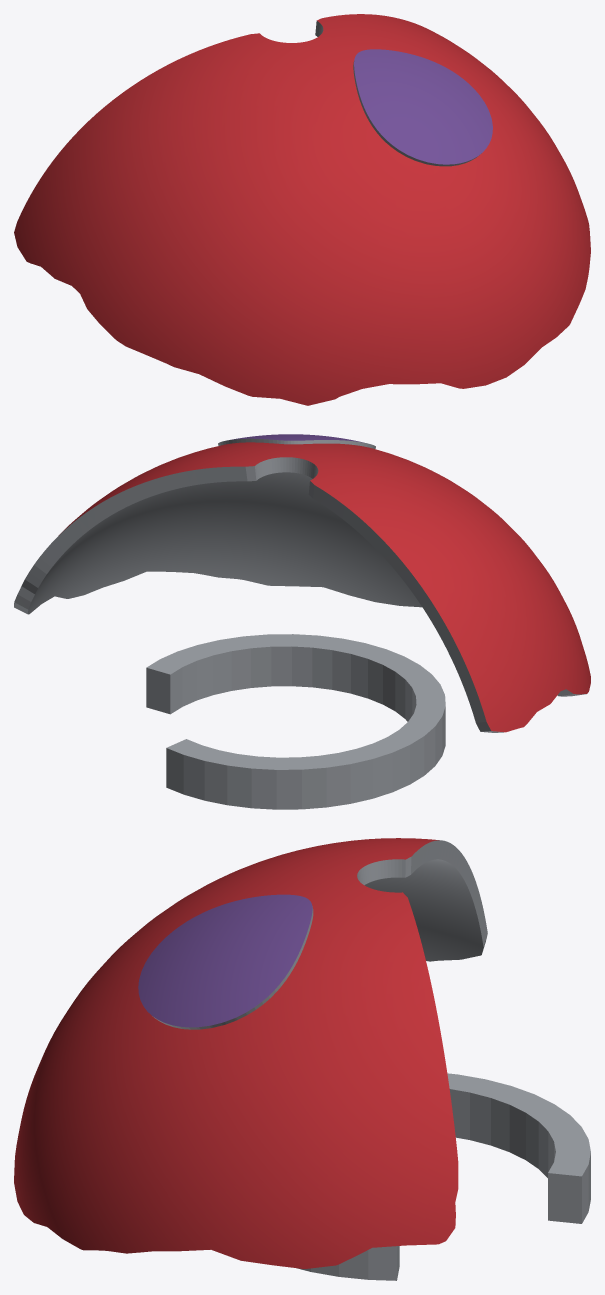
The model's file is baymax_shoulder_fragment.glb.
The picture shows the model from 3 angles, top to bottom: view 1: azimuth 30°, elevation 25°; view 2: azimuth 150°, elevation 25°; view 3: azimuth 270°, elevation 25°; orthographic projection. The views are drawn at different scales.
Parts seen in each view (by area): view 1: baymax_shoulder_fragment; view 2: baymax_shoulder_fragment; view 3: baymax_shoulder_fragment.
Boxes of the visible parts, x1,y1,x2,y2 form: baymax_shoulder_fragment: (14,14,590,405); baymax_shoulder_fragment: (14,434,590,809); baymax_shoulder_fragment: (14,838,590,1280).
Size of the model in its own units: 0.8016 by 0.4077 by 0.659.
